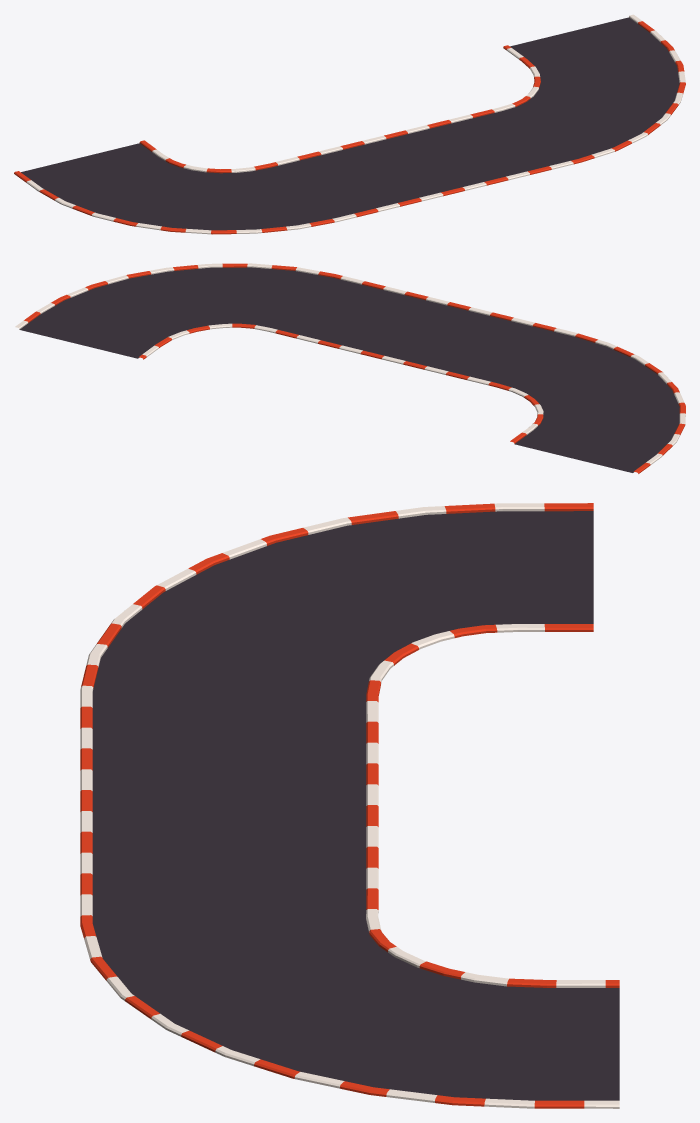
The model's file is 掉头道.glb.
3 renders of one model, top to bottom at view 1: azimuth 30°, elevation 25°; view 2: azimuth 150°, elevation 25°; view 3: azimuth 270°, elevation 25°, orthographic. The views are drawn at different scales.
Parts seen in each view (by area): view 1: Road, LeftCurb0, LeftCurb1, RightCurb0, RightCurb1; view 2: Road, LeftCurb0, LeftCurb1, RightCurb0, RightCurb1; view 3: Road, LeftCurb0, LeftCurb1, RightCurb0, RightCurb1.
Boxes of the visible parts, box(x1,y1,x2,y2) form: Road: box(21, 17, 679, 230); LeftCurb0: box(14, 21, 685, 234); LeftCurb1: box(26, 14, 685, 234); RightCurb0: box(139, 45, 540, 173); RightCurb1: box(152, 48, 540, 172); Road: box(19, 267, 679, 472); LeftCurb0: box(24, 263, 685, 473); LeftCurb1: box(15, 263, 685, 464); RightCurb0: box(139, 323, 543, 443); RightCurb1: box(142, 323, 543, 434); Road: box(92, 511, 619, 1100); LeftCurb0: box(80, 503, 593, 1108); LeftCurb1: box(80, 503, 619, 1108); RightCurb0: box(366, 624, 619, 987); RightCurb1: box(366, 624, 605, 987).
Size of the model in its own units: 52.1 by 0.14 by 19.71.
